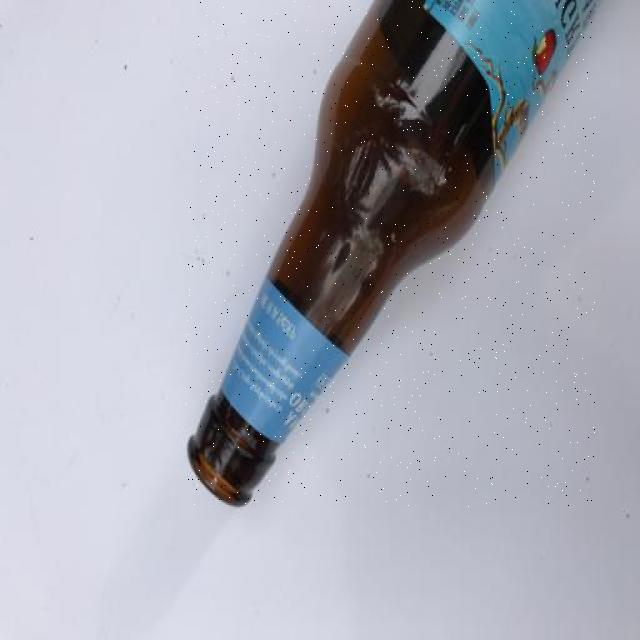glass: (186, 0, 595, 506)
